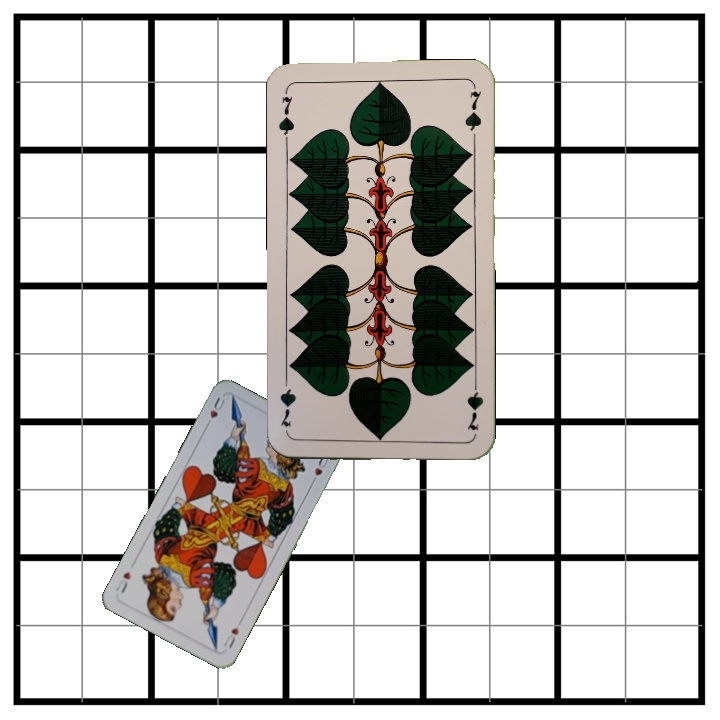G7: (463, 374, 486, 433), (274, 92, 296, 144)
HU: (201, 393, 228, 430), (219, 616, 245, 651)
